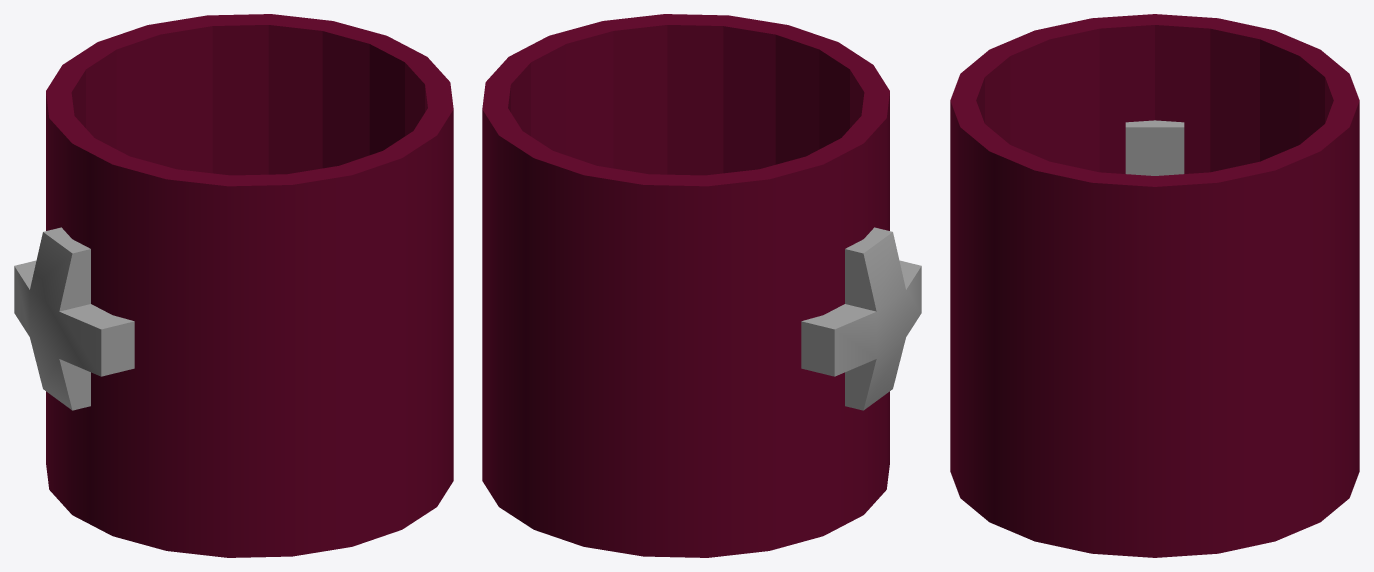
The model's file is medkit 1.fbx.
The picture shows the model from 3 angles, left to right: view 1: azimuth 30°, elevation 25°; view 2: azimuth 150°, elevation 25°; view 3: azimuth 270°, elevation 25°; orthographic projection.
Parts seen in each view (by area): view 1: pCylinder2; view 2: pCylinder2; view 3: pCylinder2.
Part boxes in pixels (x1=…): pCylinder2: x1=14, y1=14, x2=453, y2=557; pCylinder2: x1=482, y1=14, x2=921, y2=557; pCylinder2: x1=950, y1=14, x2=1359, y2=557.
Bounding box in the file's own units: 7.49 × 6.95 × 6.95.
